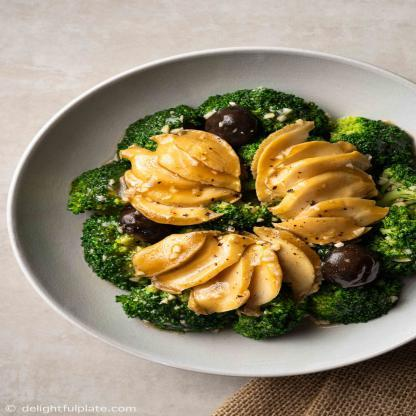broccoli: (68, 88, 416, 341)
